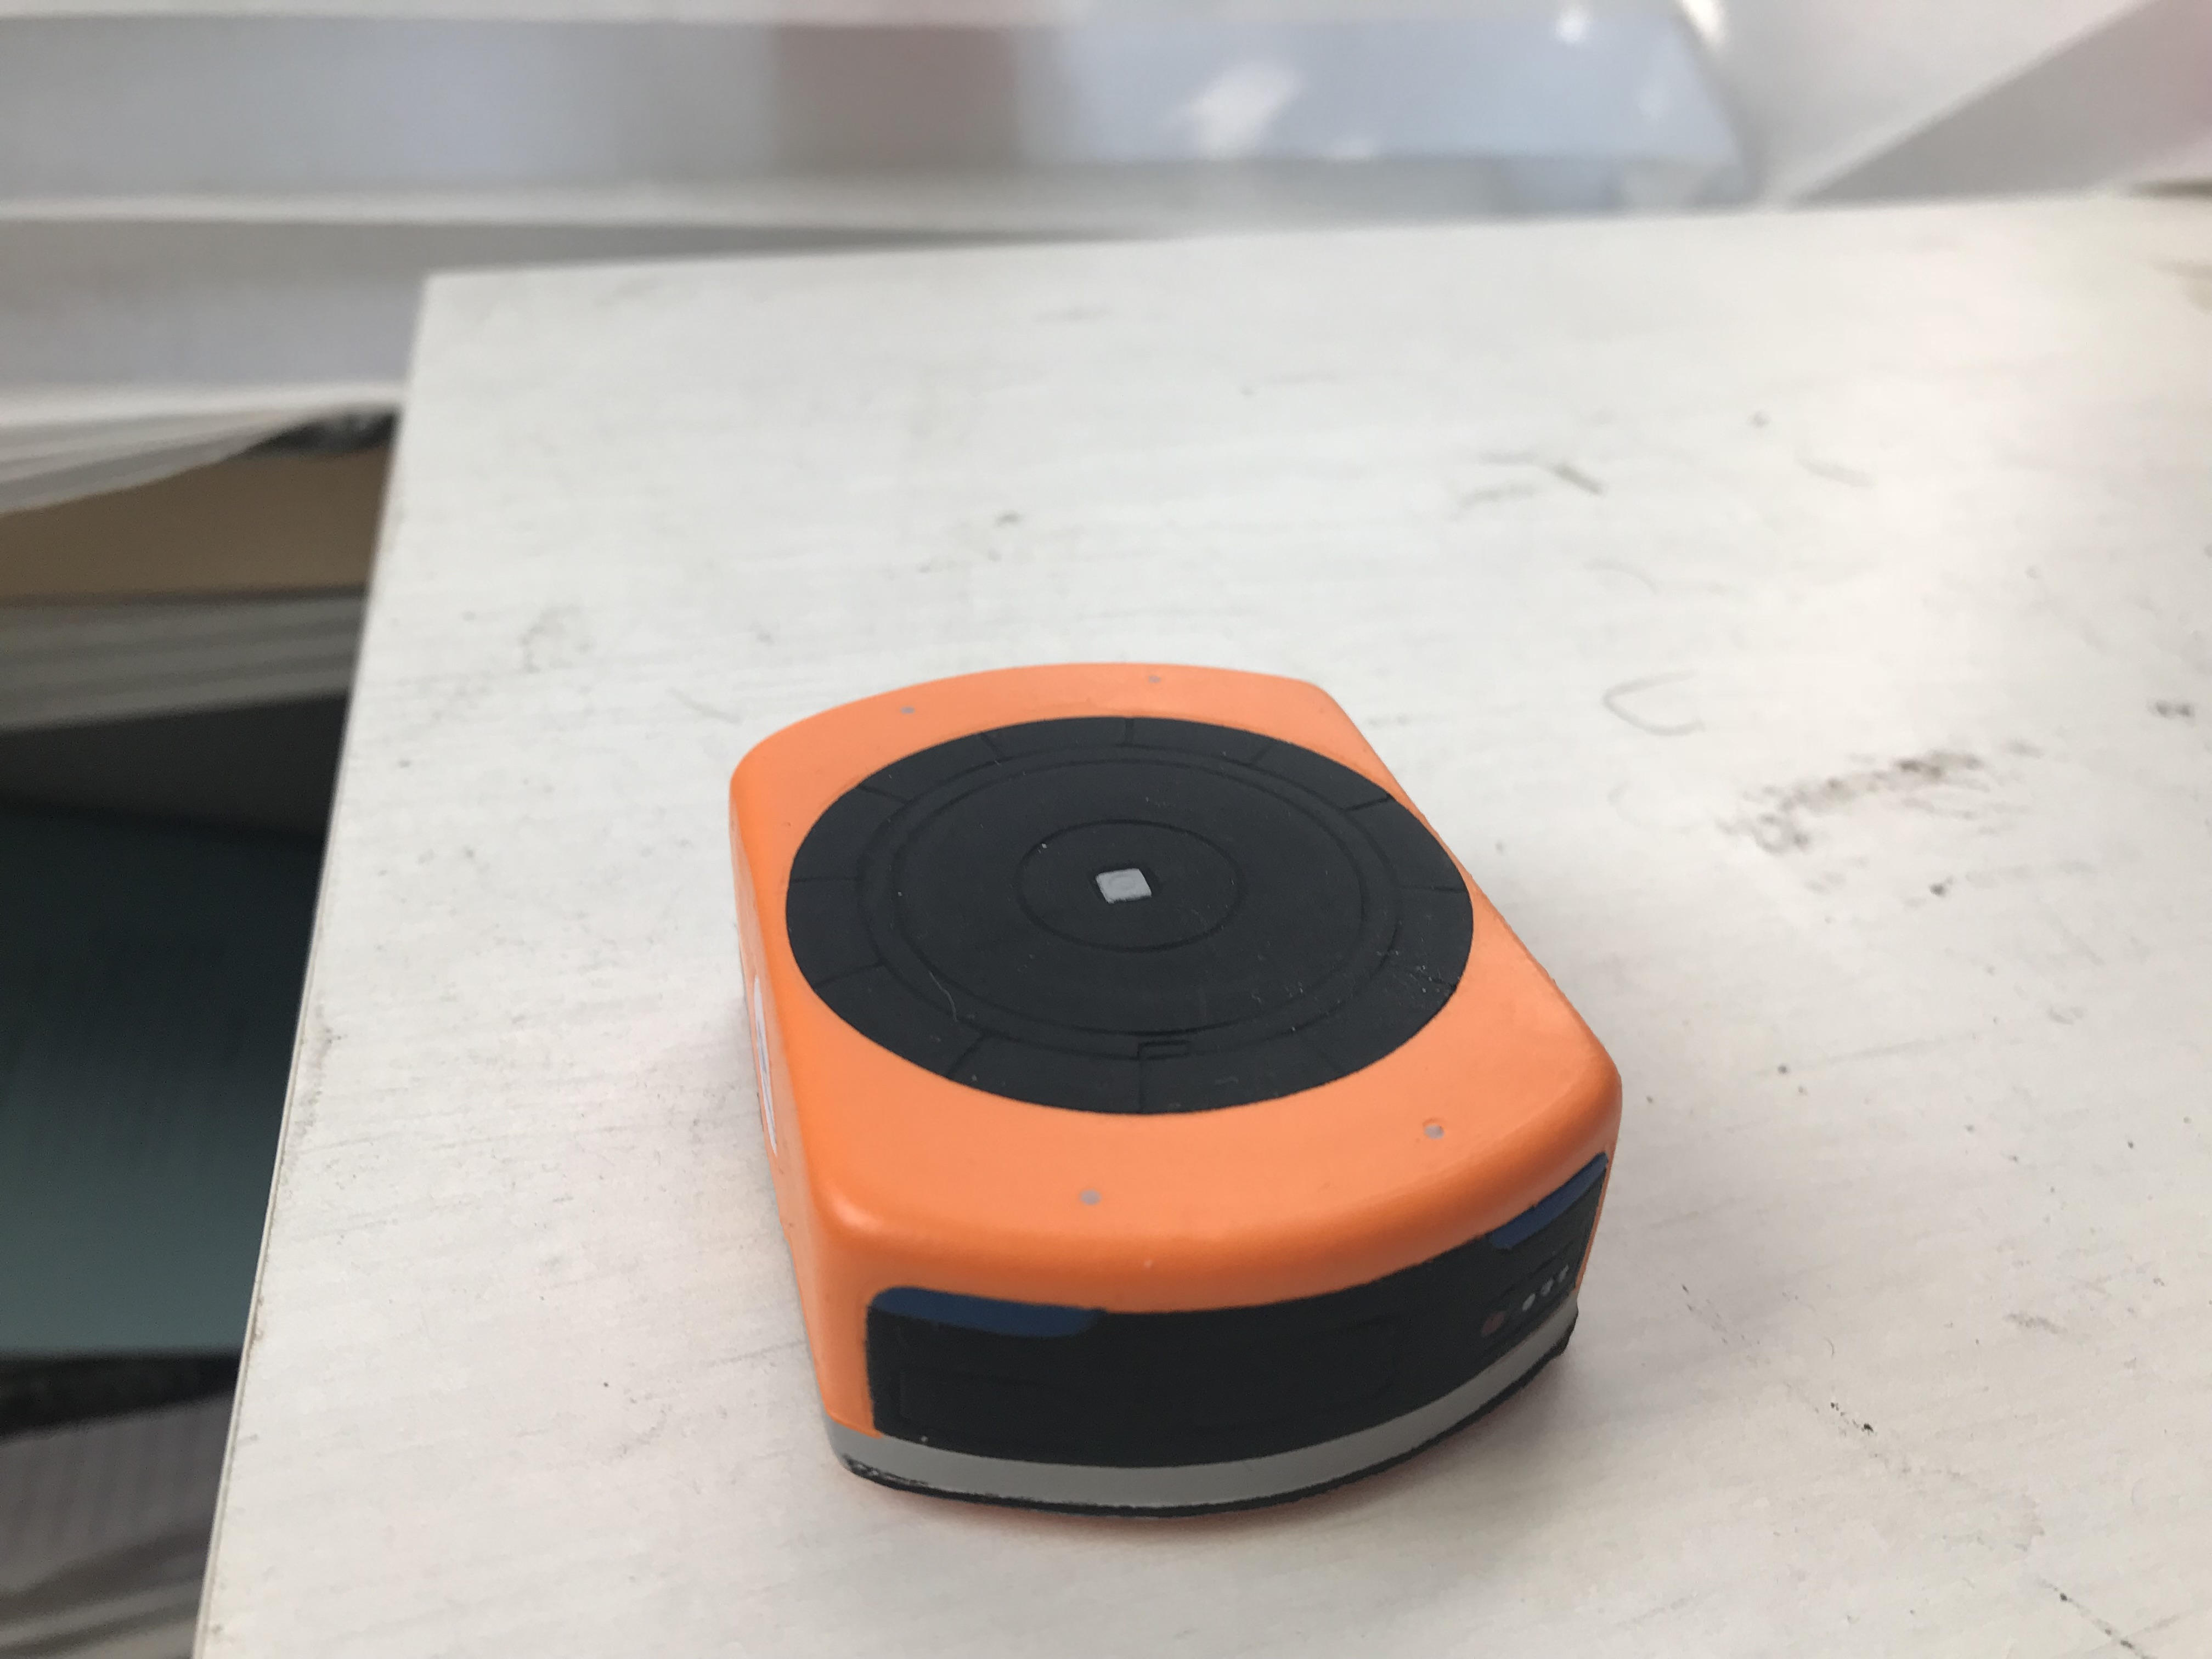amazon_bot: (683, 636, 1639, 1539)
